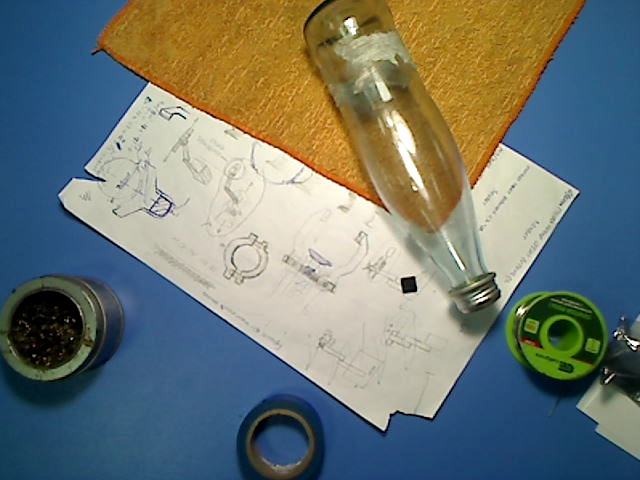bottle: (302, 1, 503, 316)
